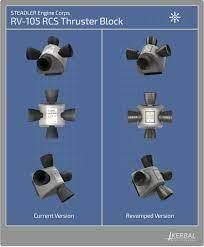thruster: (31, 169, 52, 188), (132, 169, 151, 189), (155, 183, 175, 202), (56, 183, 74, 204), (58, 41, 76, 59), (61, 106, 78, 123), (26, 108, 44, 124), (124, 45, 140, 63), (24, 46, 42, 62), (44, 124, 61, 140), (157, 43, 175, 58), (136, 55, 151, 73), (45, 89, 60, 107), (40, 153, 57, 168), (37, 56, 52, 73), (143, 124, 157, 142), (139, 152, 155, 167), (144, 91, 160, 106), (125, 109, 141, 123), (158, 168, 174, 182), (157, 110, 173, 123), (46, 34, 62, 47), (146, 34, 159, 49), (62, 169, 75, 182)
